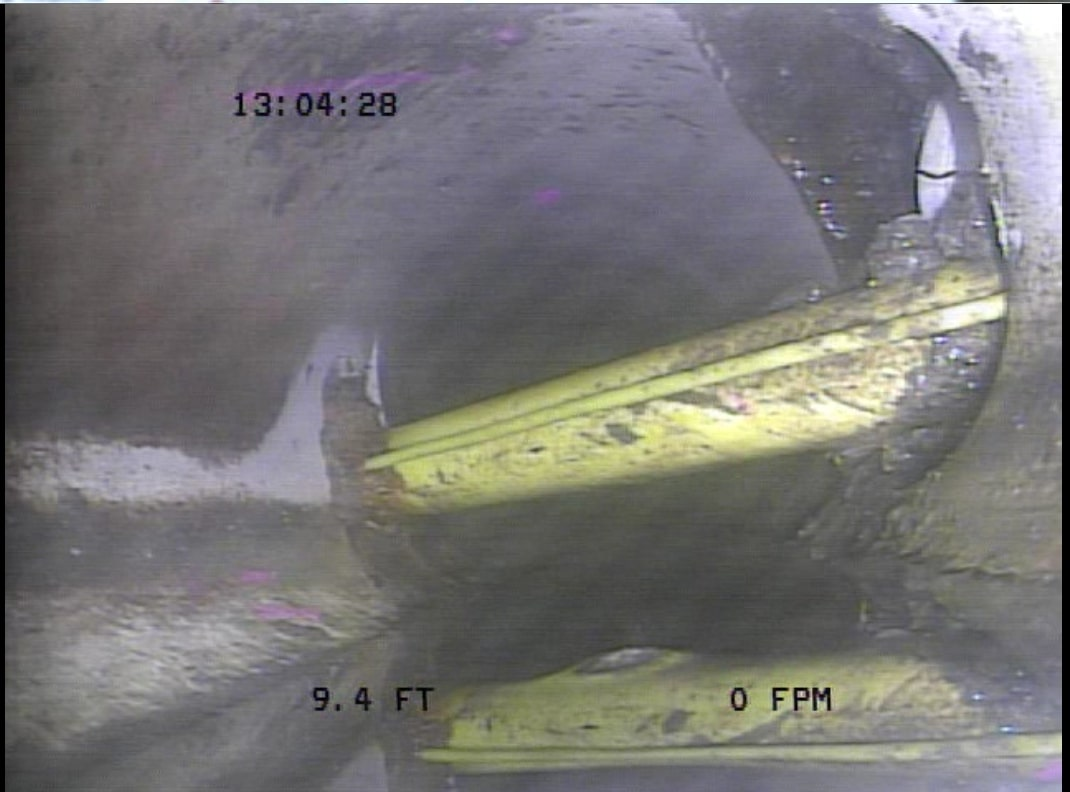cb: (328, 248, 1033, 544)
